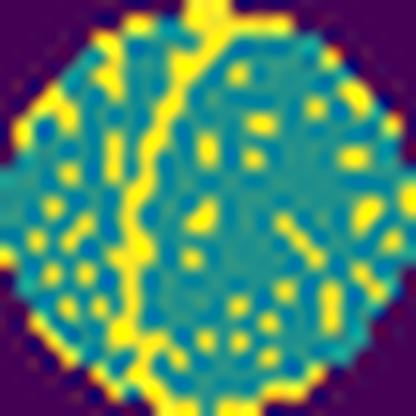Scratch: (98, 0, 300, 416)
